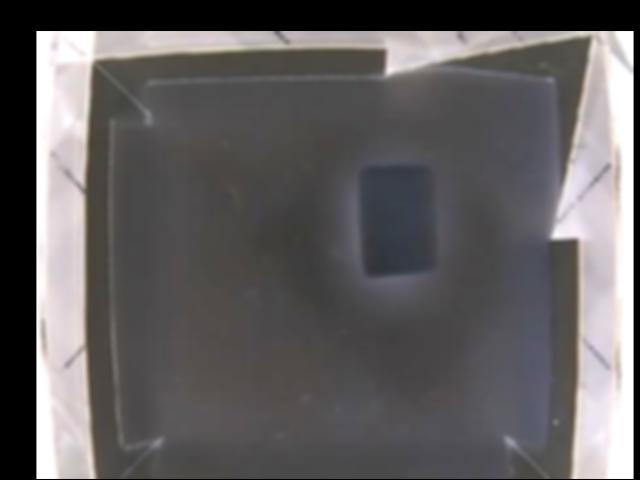Mooli: (359, 162, 436, 277)
